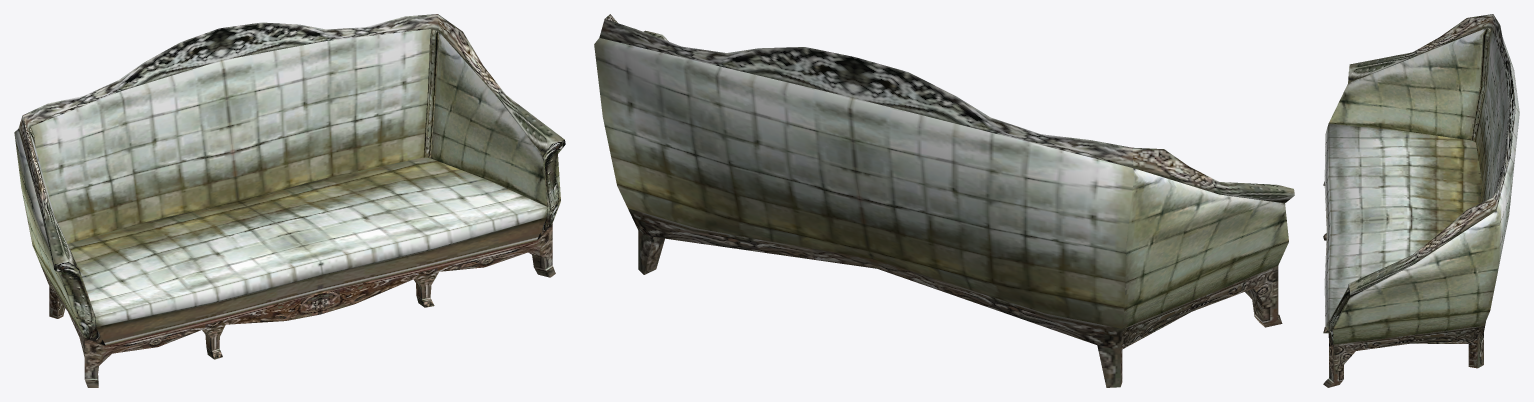
Rendered from hel_club_couch.fbx.
The picture shows the model from 3 angles, left to right: view 1: azimuth 30°, elevation 25°; view 2: azimuth 150°, elevation 25°; view 3: azimuth 270°, elevation 25°; orthographic projection. The views are drawn at different scales.
Parts seen in each view (by area): view 1: mesh_0; view 2: mesh_0; view 3: mesh_0.
Part boxes in pixels (x1,y1,x2,y2): mesh_0: (14,14,565,387); mesh_0: (594,14,1294,387); mesh_0: (1323,14,1519,387).
Size of the model in its own units: 361 by 154 by 133.
1 material, 1 textured.
